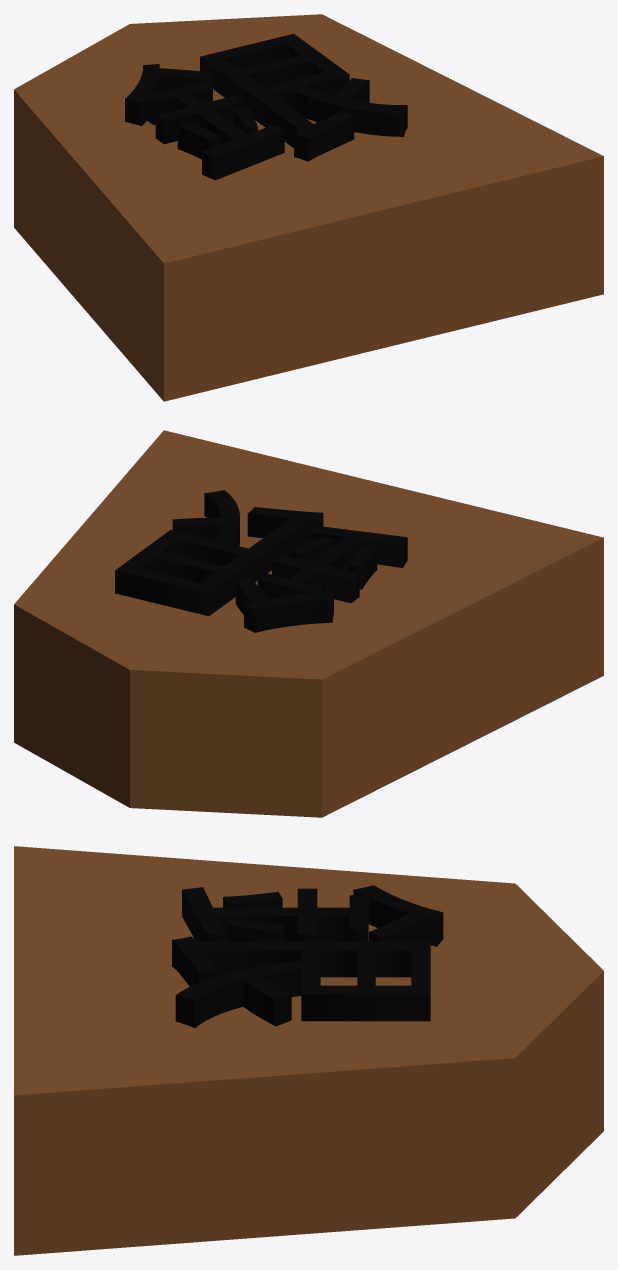
The model's file is Gin.fbx.
3 views of the same model, one above another, from view 1: azimuth 30°, elevation 25°; view 2: azimuth 150°, elevation 25°; view 3: azimuth 270°, elevation 25° (orthographic). The views are drawn at different scales.
Parts seen in each view (by area): view 1: Cube, テキスト; view 2: Cube, テキスト; view 3: Cube, テキスト.
Part boxes in pixels (x1,y1,x2,y2): Cube: [14, 14, 603, 401]; テキスト: [125, 33, 407, 180]; Cube: [14, 430, 603, 817]; テキスト: [115, 490, 407, 632]; Cube: [14, 846, 603, 1255]; テキスト: [172, 885, 443, 1027].
Bounding box in the file's own units: 200 × 70 × 200.
